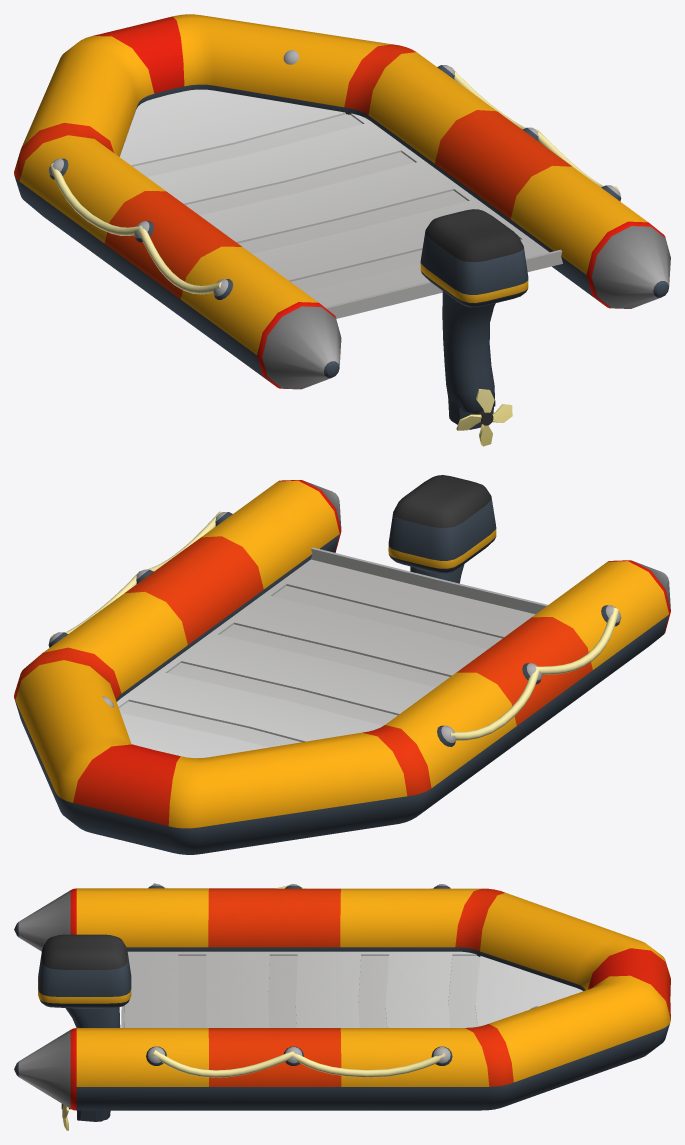
The model's file is boat.fbx.
3 views of the same model, one above another, from view 1: azimuth 30°, elevation 25°; view 2: azimuth 150°, elevation 25°; view 3: azimuth 270°, elevation 25° (orthographic). The views are drawn at different scales.
Parts seen in each view (by area): view 1: boat, boat engine, enginerotate; view 2: boat, boat engine; view 3: boat, boat engine.
Part boxes in pixels (left/top/right/bottom): boat: left=14, top=14, right=670, bottom=389; boat engine: left=420, top=209, right=528, bottom=429; enginerotate: left=456, top=389, right=512, bottom=446; boat: left=14, top=480, right=670, bottom=854; boat engine: left=388, top=475, right=496, bottom=583; boat: left=14, top=883, right=670, bottom=1110; boat engine: left=38, top=934, right=131, bottom=1121.
Size of the model in its own units: 101 by 49.09 by 158.
Materials: 1 (1 with a texture image).
